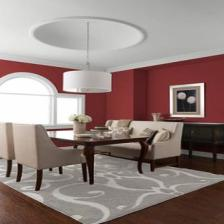red: (85, 55, 224, 129), (1, 60, 74, 93), (1, 60, 70, 91)
